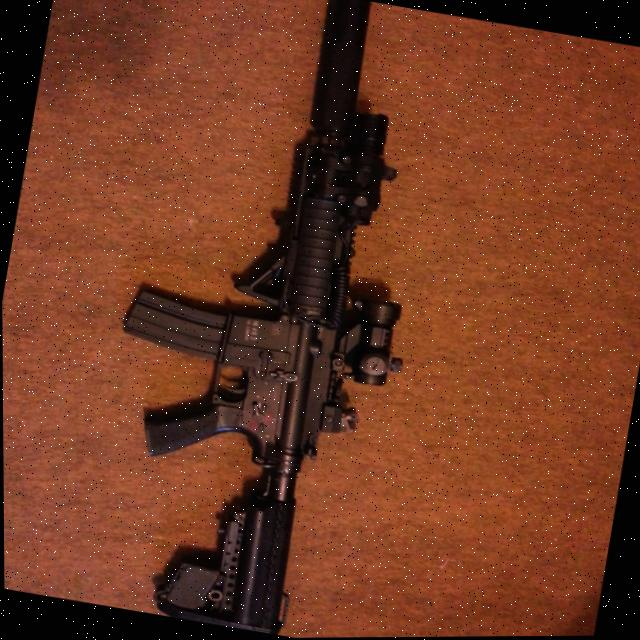firearm: (66, 0, 466, 640)
